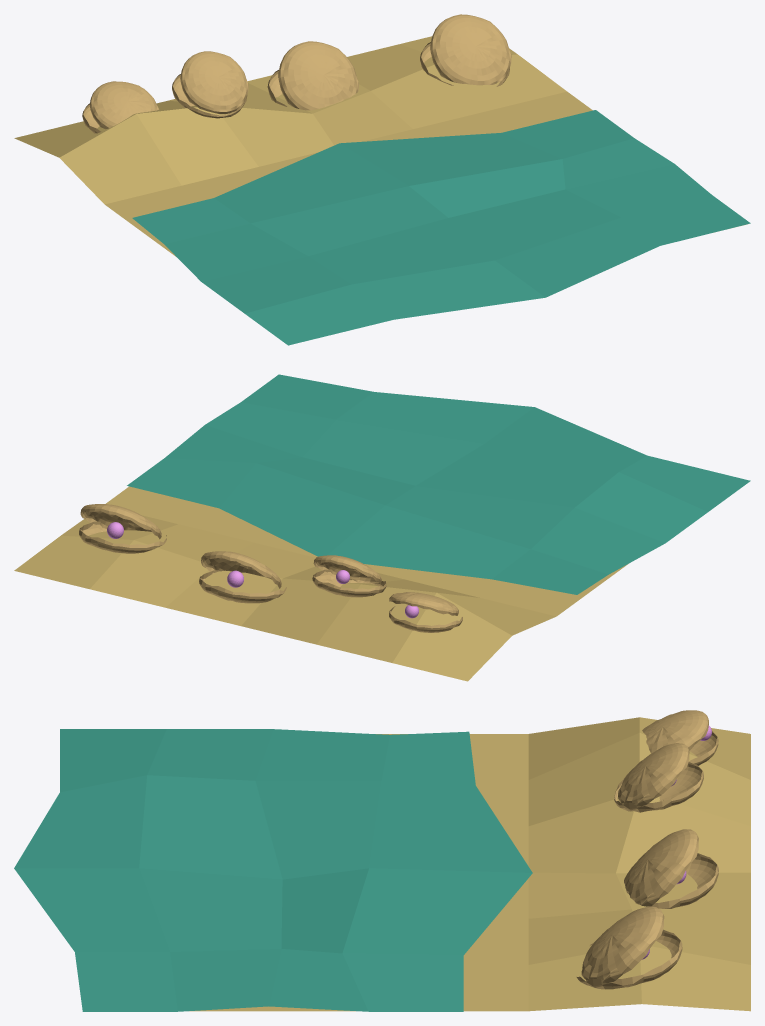
Rendered from BeachTutorial.fbx.
3 views of the same model, one above another, from view 1: azimuth 30°, elevation 25°; view 2: azimuth 150°, elevation 25°; view 3: azimuth 270°, elevation 25° (orthographic). The views are drawn at different scales.
Visible parts, largest first — view 1: Plane, Sphere, Sphere.003, Sphere.006, Sphere.009, Sphere.007; view 2: Plane, Sphere, Sphere.003, Sphere.006, Sphere.001, Sphere.007, Sphere.009, Sphere.004, Sphere.010; view 3: Plane, Sphere, Sphere.003, Sphere.006, Sphere.009, Sphere.007, Sphere.001, Sphere.004, Sphere.010.
Boxes of the visible parts, bbox=[...] form: Plane: bbox=[14, 36, 750, 345]; Sphere: bbox=[430, 14, 511, 85]; Sphere.003: bbox=[278, 41, 358, 110]; Sphere.006: bbox=[180, 51, 248, 114]; Sphere.009: bbox=[90, 81, 159, 129]; Sphere.007: bbox=[172, 74, 247, 118]; Plane: bbox=[14, 374, 750, 681]; Sphere: bbox=[80, 504, 161, 539]; Sphere.003: bbox=[201, 551, 281, 588]; Sphere.006: bbox=[313, 555, 381, 583]; Sphere.001: bbox=[79, 521, 166, 553]; Sphere.007: bbox=[312, 569, 386, 597]; Sphere.009: bbox=[389, 592, 458, 615]; Sphere.004: bbox=[199, 570, 286, 603]; Sphere.010: bbox=[389, 606, 462, 632]; Plane: bbox=[14, 717, 750, 1011]; Sphere: bbox=[581, 906, 664, 983]; Sphere.003: bbox=[624, 829, 698, 906]; Sphere.006: bbox=[618, 743, 689, 810]; Sphere.009: bbox=[642, 710, 708, 753]; Sphere.007: bbox=[614, 762, 703, 812]; Sphere.001: bbox=[576, 929, 682, 989]; Sphere.004: bbox=[636, 853, 718, 908]; Sphere.010: bbox=[689, 731, 718, 765].
Bounding box in the file's own units: 58613 × 9046 × 64533.
